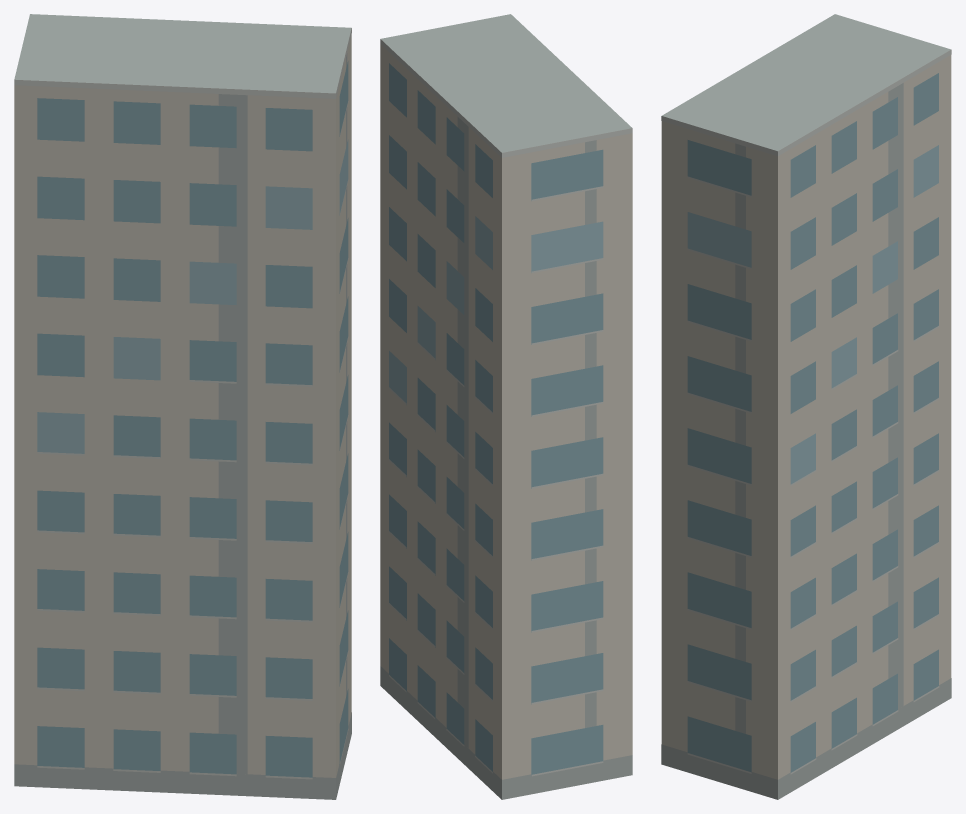
The model's file is residential-798501f0-c9a7-4d91-bb71-39570492ed7b.glb.
3 renders of one model, left to right at view 1: azimuth 30°, elevation 25°; view 2: azimuth 150°, elevation 25°; view 3: azimuth 270°, elevation 25°, orthographic. The views are drawn at different scales.
Visible parts, largest first — view 1: residential-798501f0-c9a7-4d91-bb71-39570492ed7b.tmp; view 2: residential-798501f0-c9a7-4d91-bb71-39570492ed7b.tmp; view 3: residential-798501f0-c9a7-4d91-bb71-39570492ed7b.tmp.
Part boxes in pixels (<box>): residential-798501f0-c9a7-4d91-bb71-39570492ed7b.tmp: <box>14,14,351,799</box>; residential-798501f0-c9a7-4d91-bb71-39570492ed7b.tmp: <box>380,14,632,799</box>; residential-798501f0-c9a7-4d91-bb71-39570492ed7b.tmp: <box>661,14,951,799</box>.
Bounding box in the file's own units: 14.08 × 31 × 12.57.
